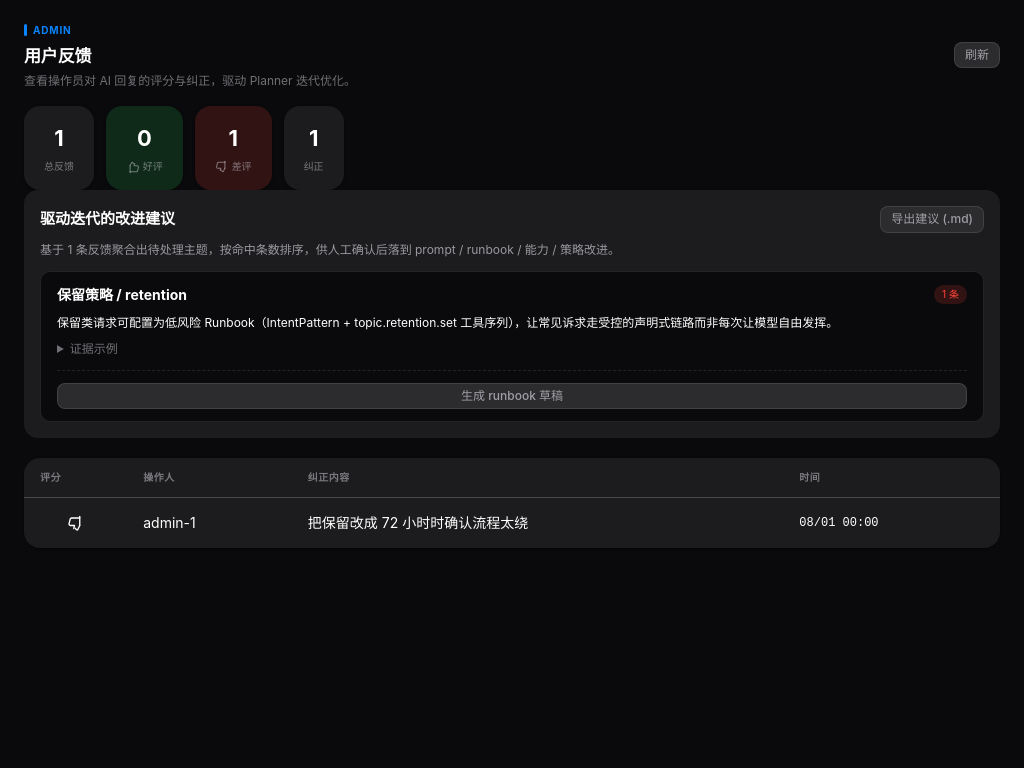
Test: FeedbackView › activating a draft marks it enabled and hides the preview
The image size is (1024, 768).
Click the button with test id "feedback-draft-runbook" at (512, 396), box [57, 383, 967, 409]
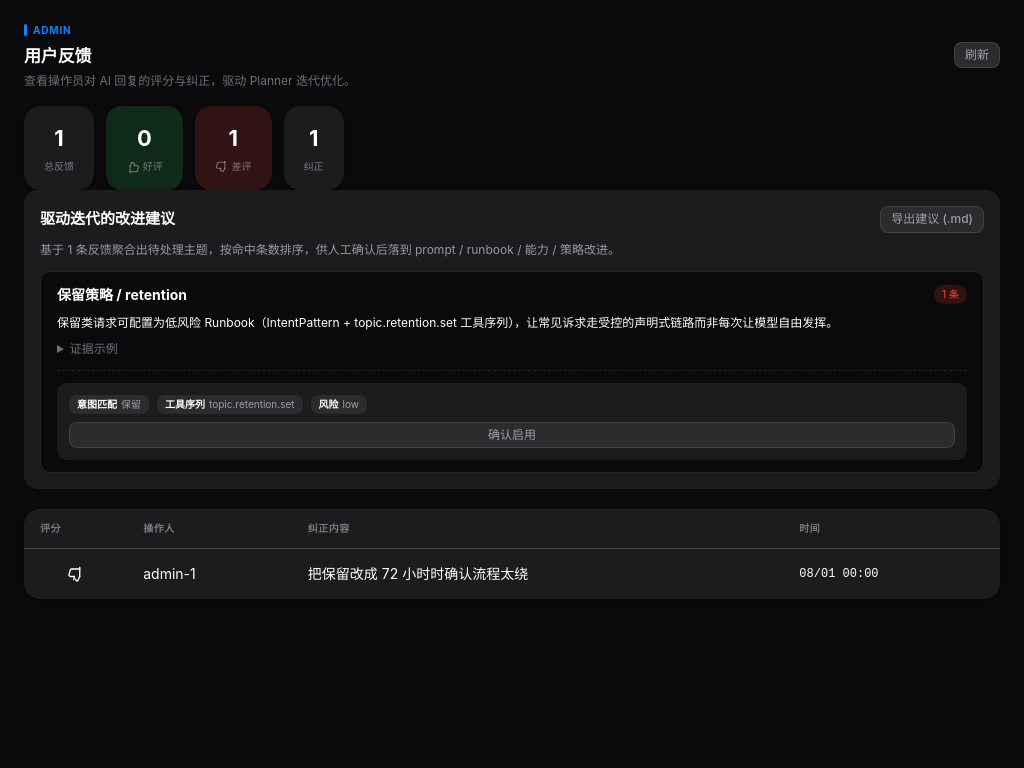
Click the button with test id "feedback-draft-activate" at (512, 435), box [69, 422, 955, 448]
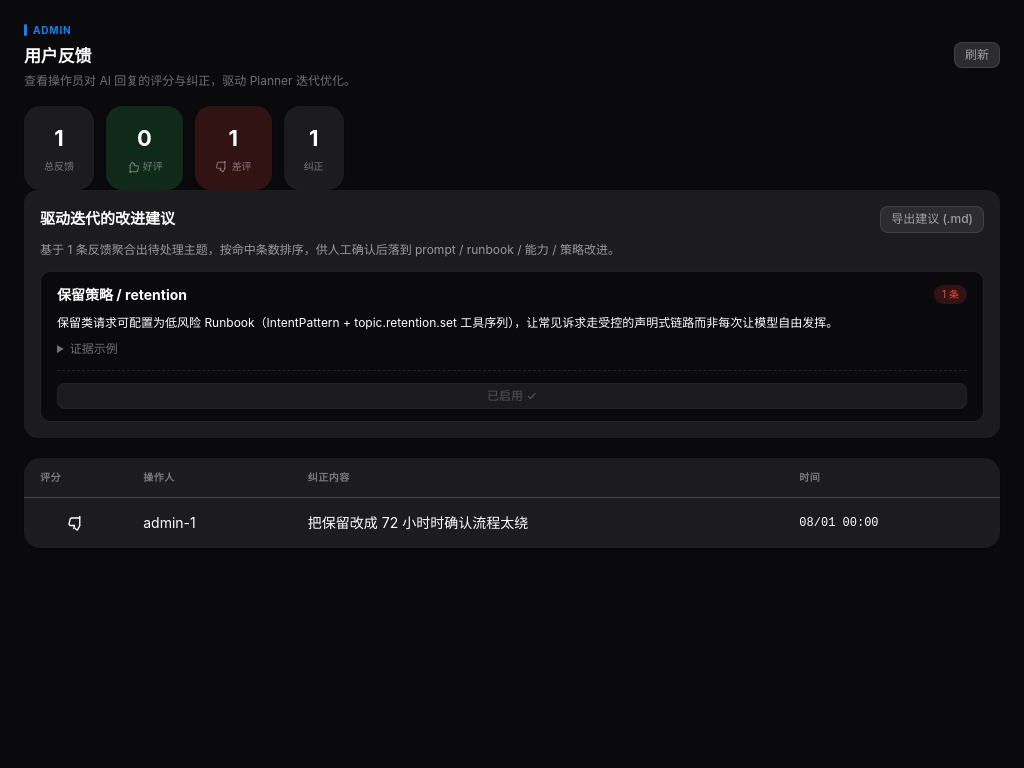
Now the button with test id "feedback-draft-activated" shows "已启用", box [57, 383, 967, 409]
